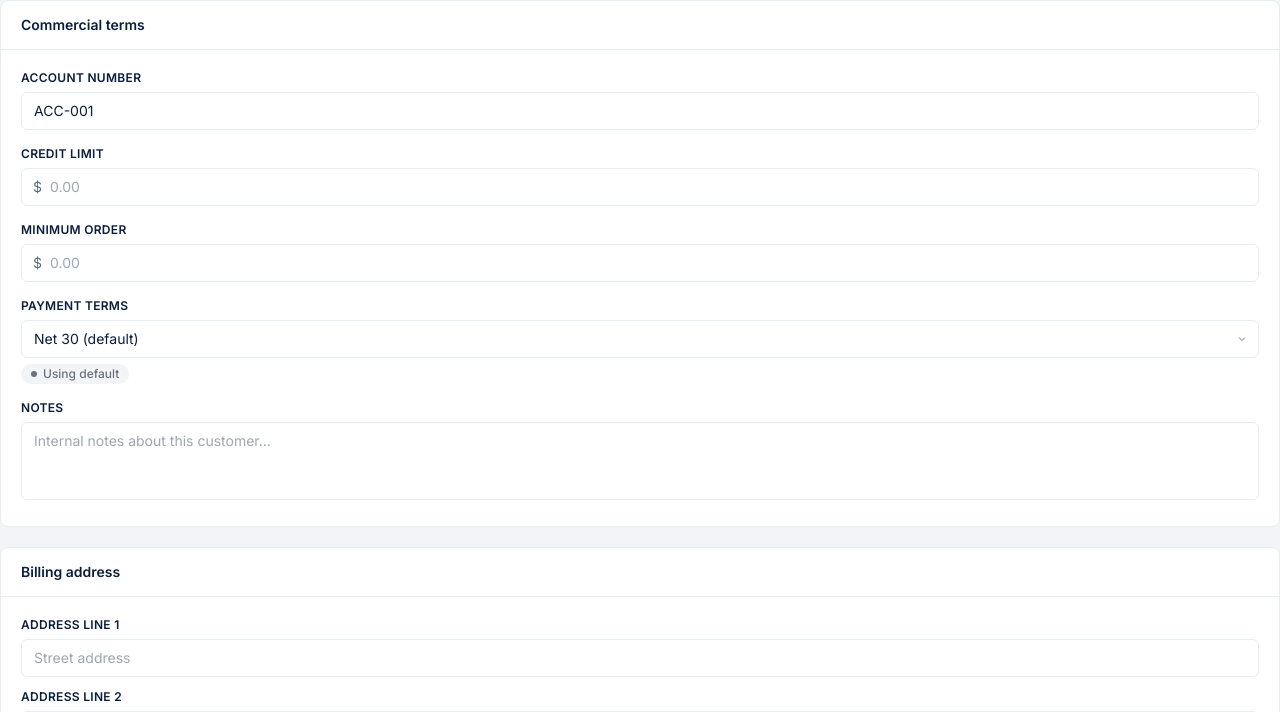
Test case: AccountTab › payment terms › sets the picked term on the customer and saves it
Select "Weekly Friday" in the dropdown labelled "Payment terms" at (640,339), box top-left (21, 320), bottom-right (1259, 358)
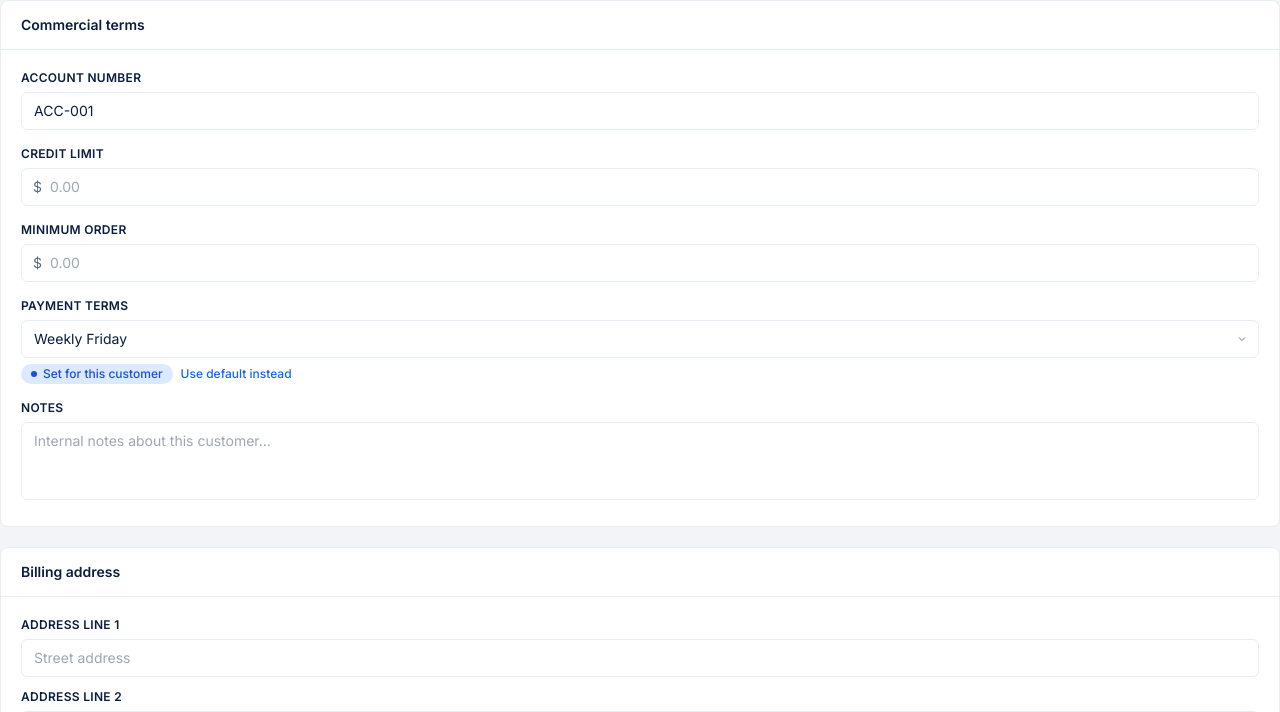
Expected: the text "Set for this customer" is shown, top-left (21, 364), bottom-right (173, 384)
